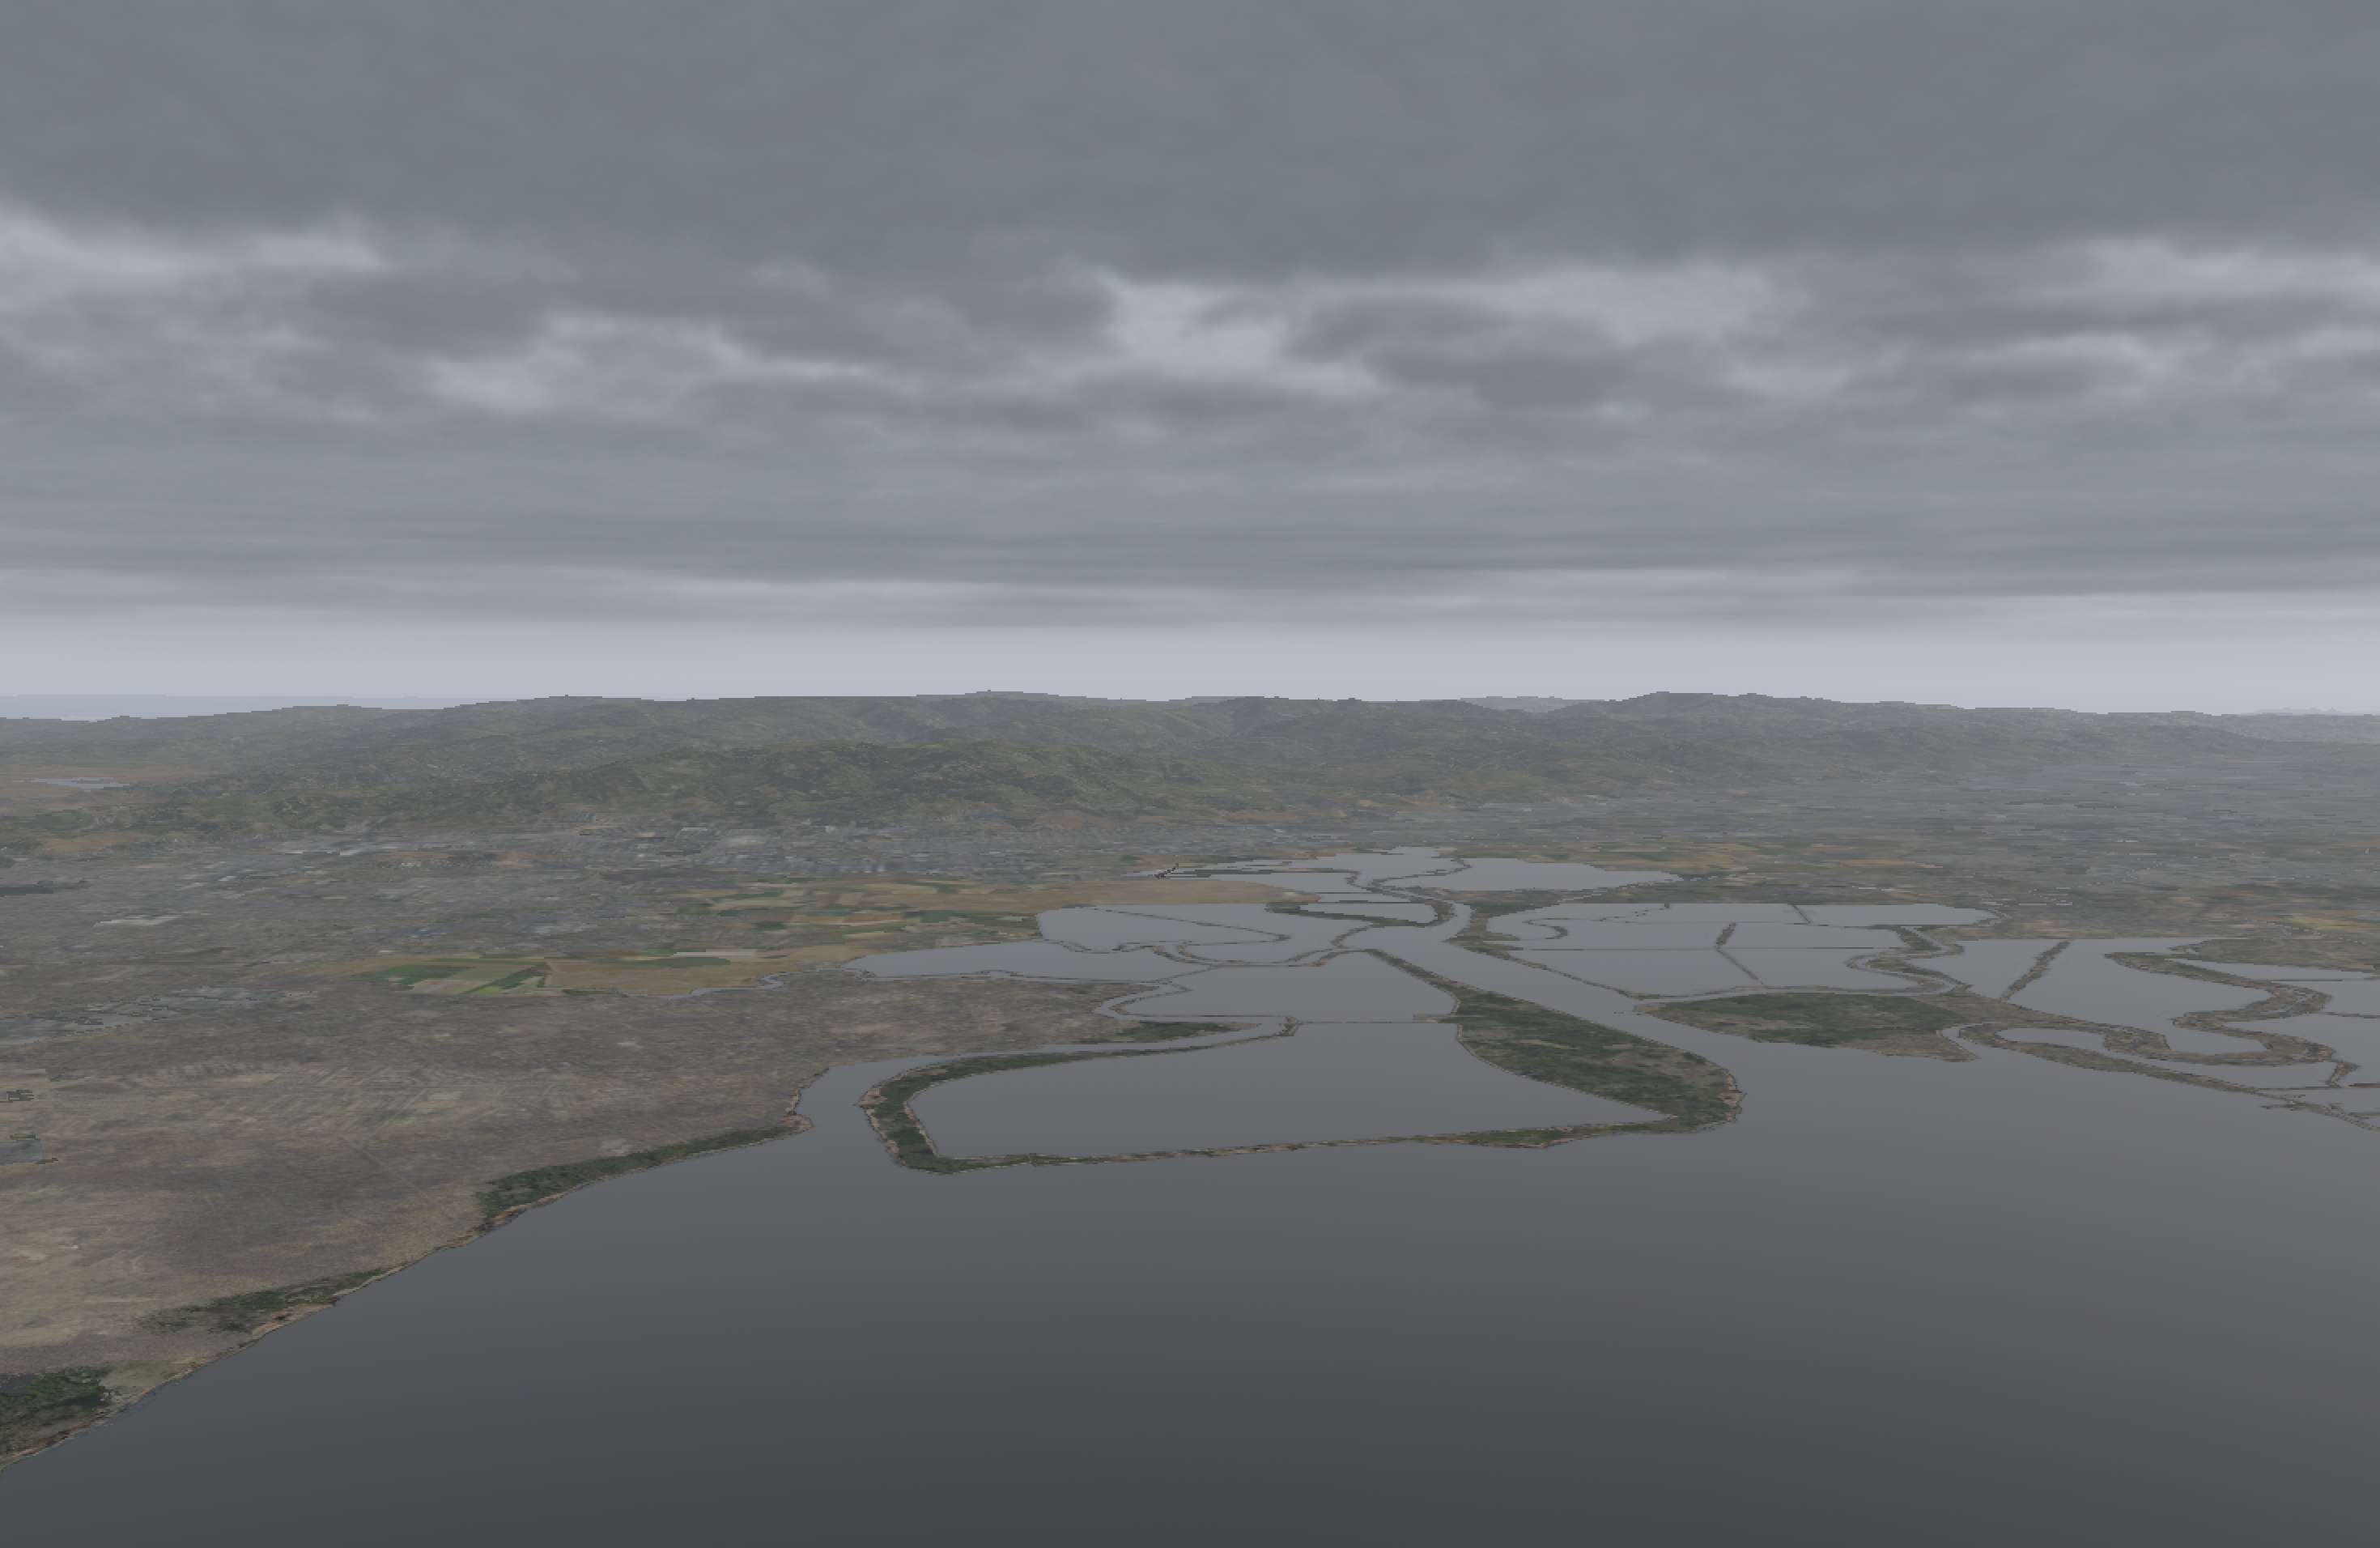aircraft: (1147, 868, 1174, 878)
